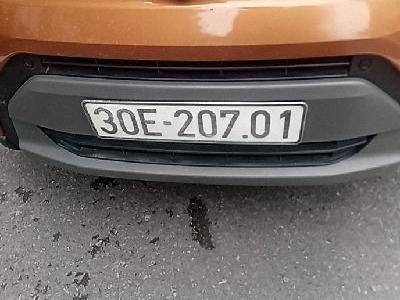number: (82, 100, 306, 148)
